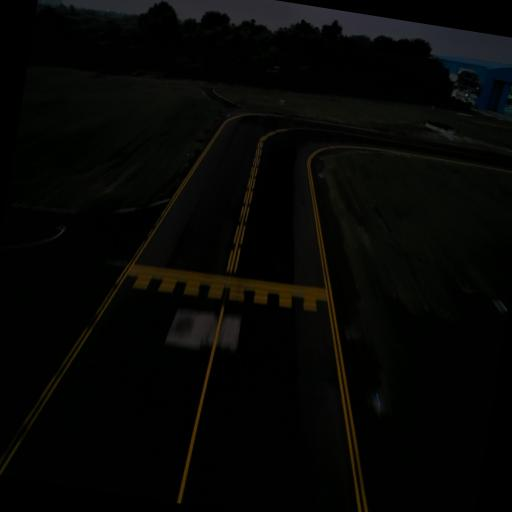on: (371, 386, 384, 411), (320, 169, 325, 177), (226, 110, 232, 116), (185, 150, 190, 157)
